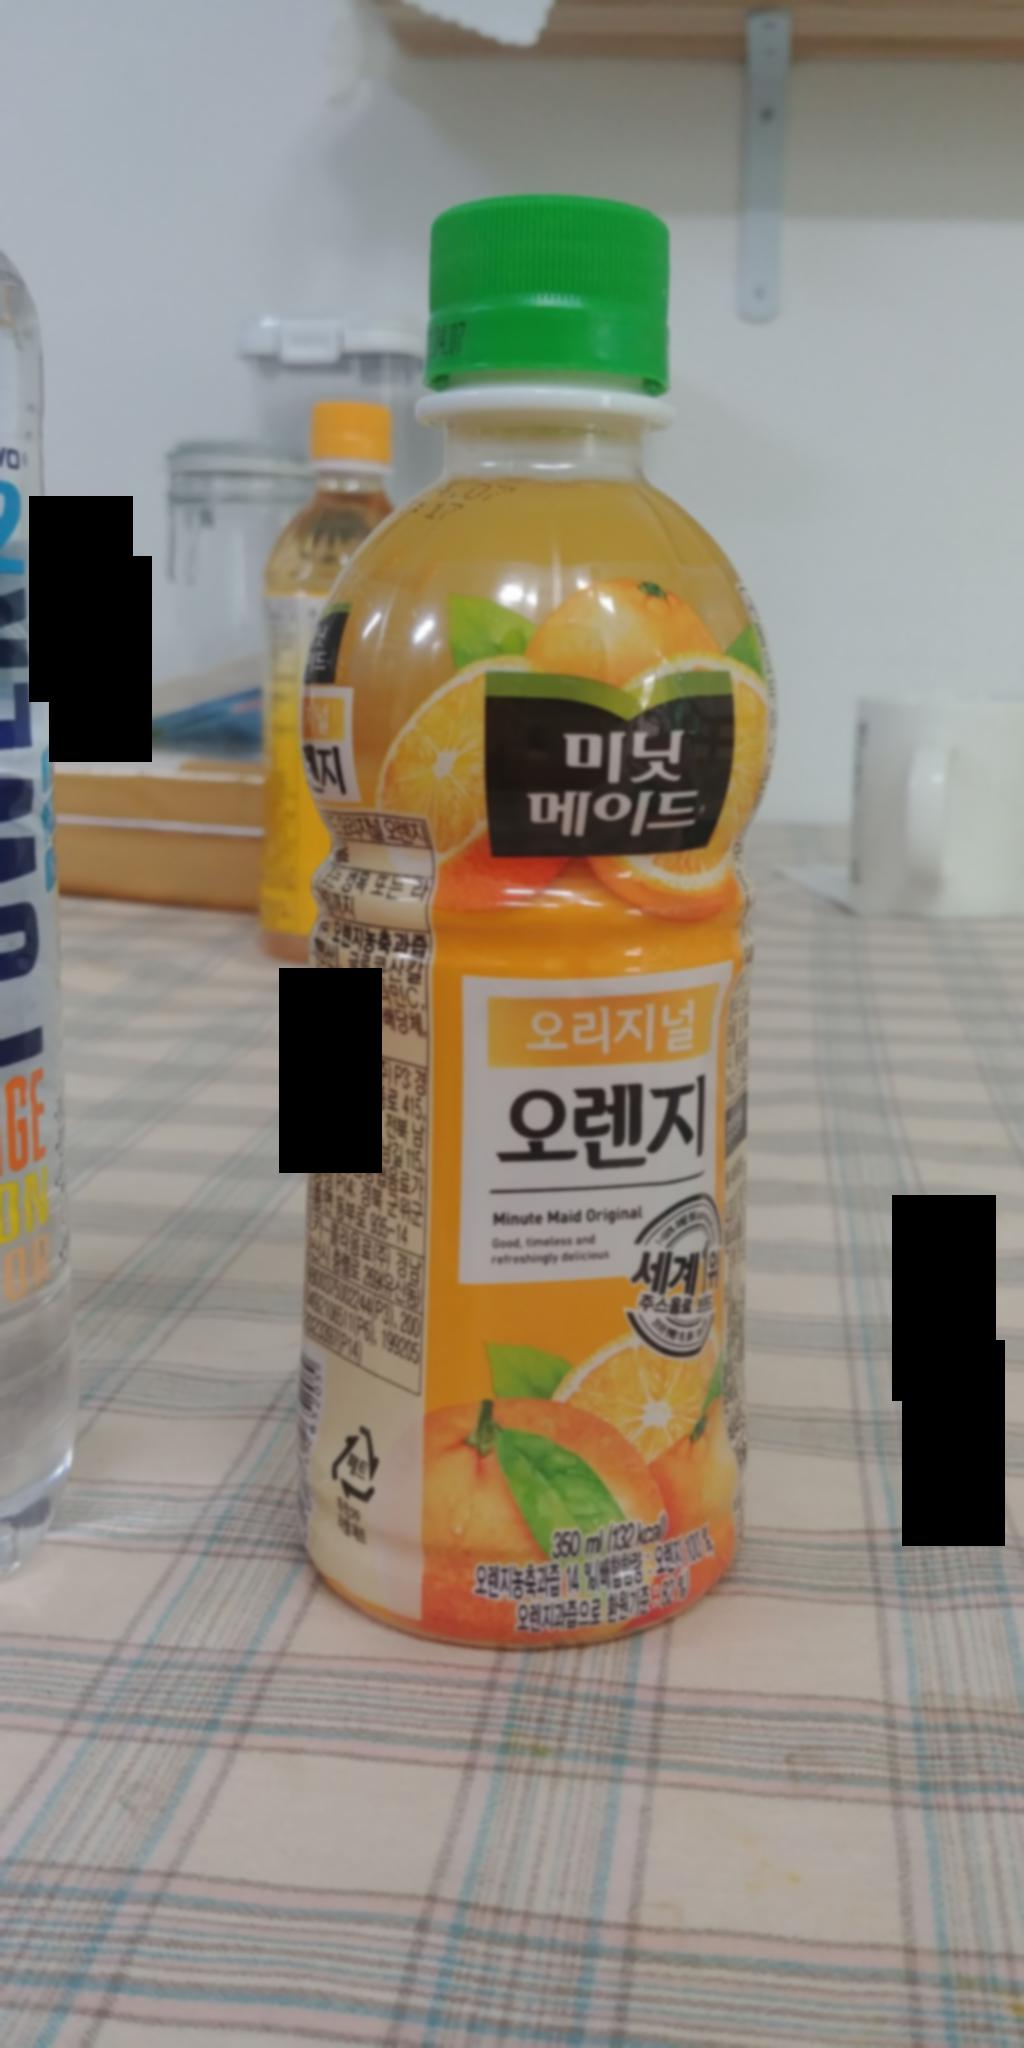minutemaid_org_orange: (289, 184, 765, 1676)
